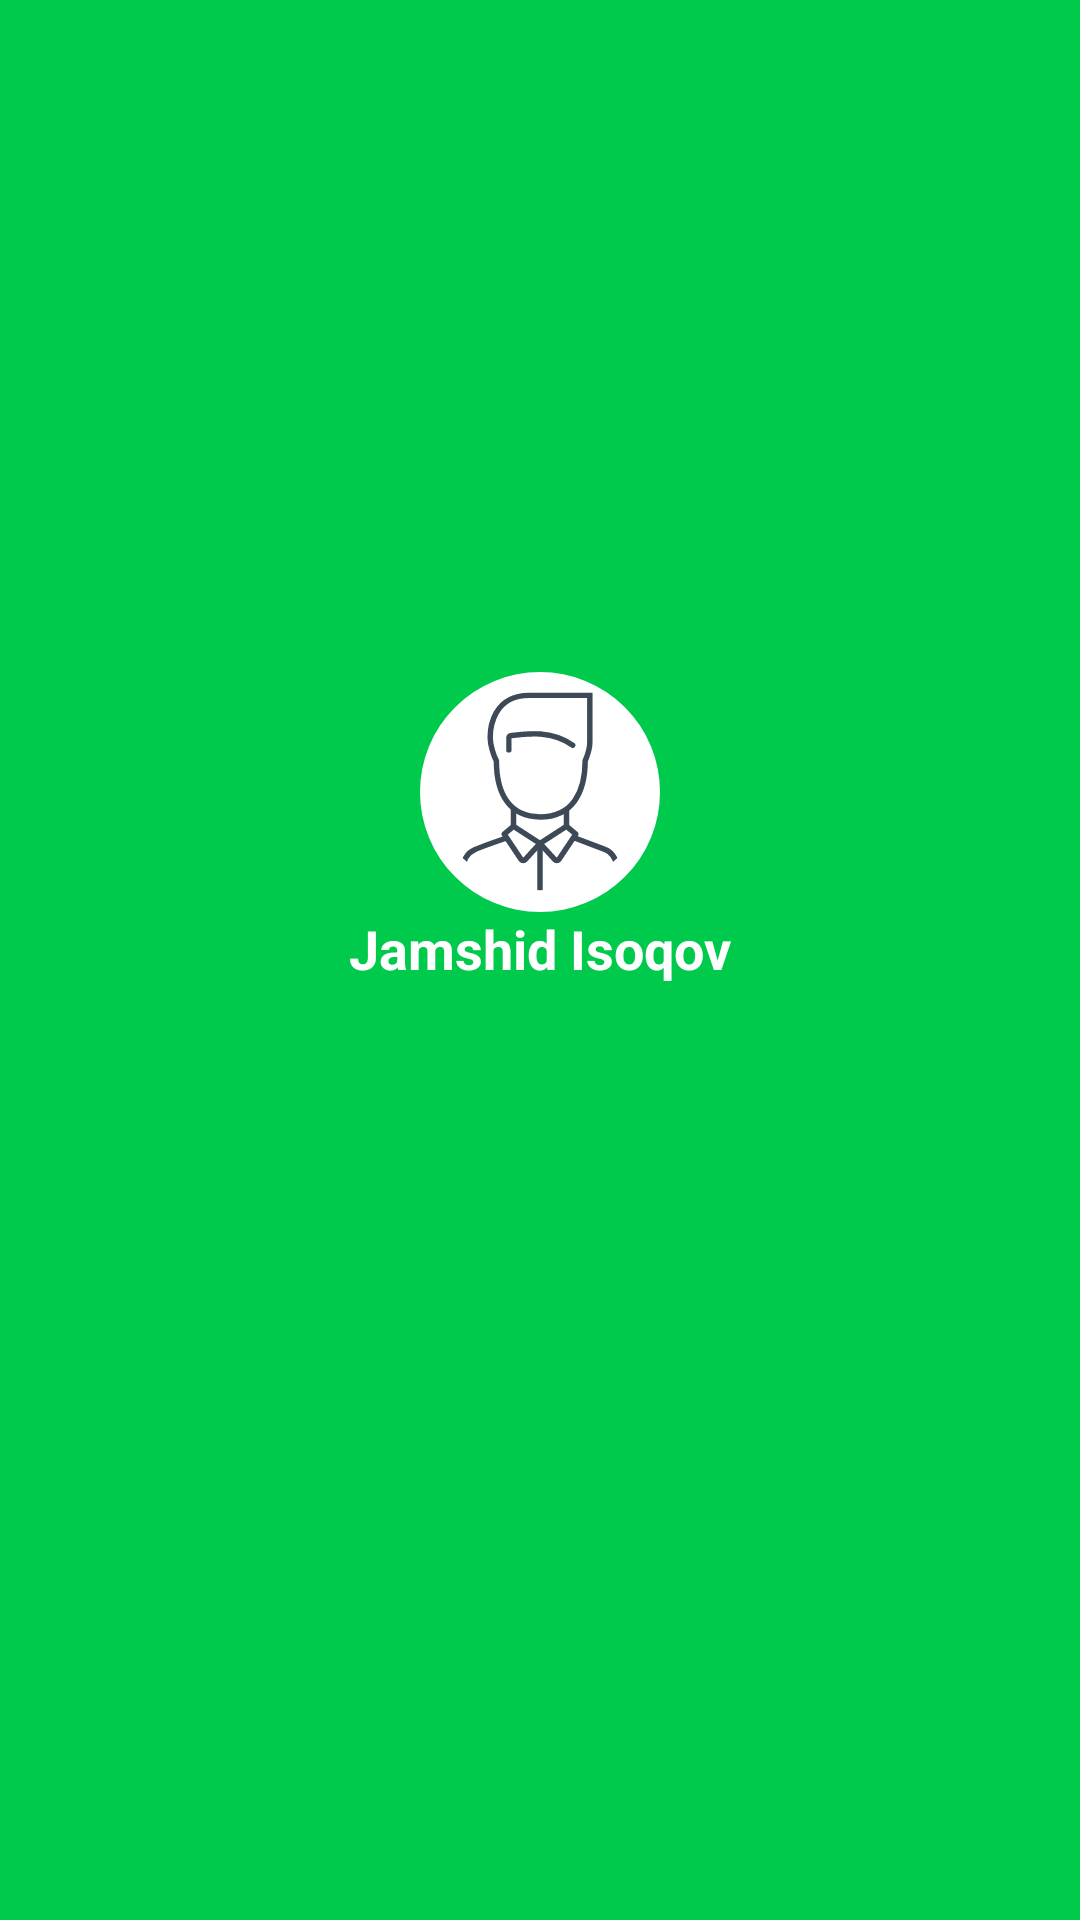

Where to tap for icons on this 1080 x 1920 app screen, as (x,y):
user: (540,792)
